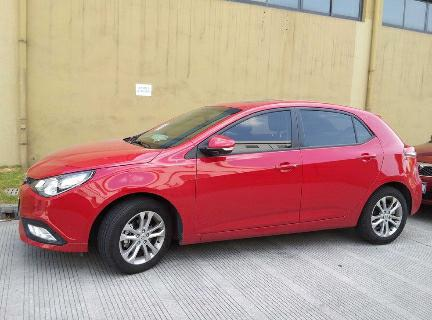纳智捷-锐3: (15, 93, 425, 276)
